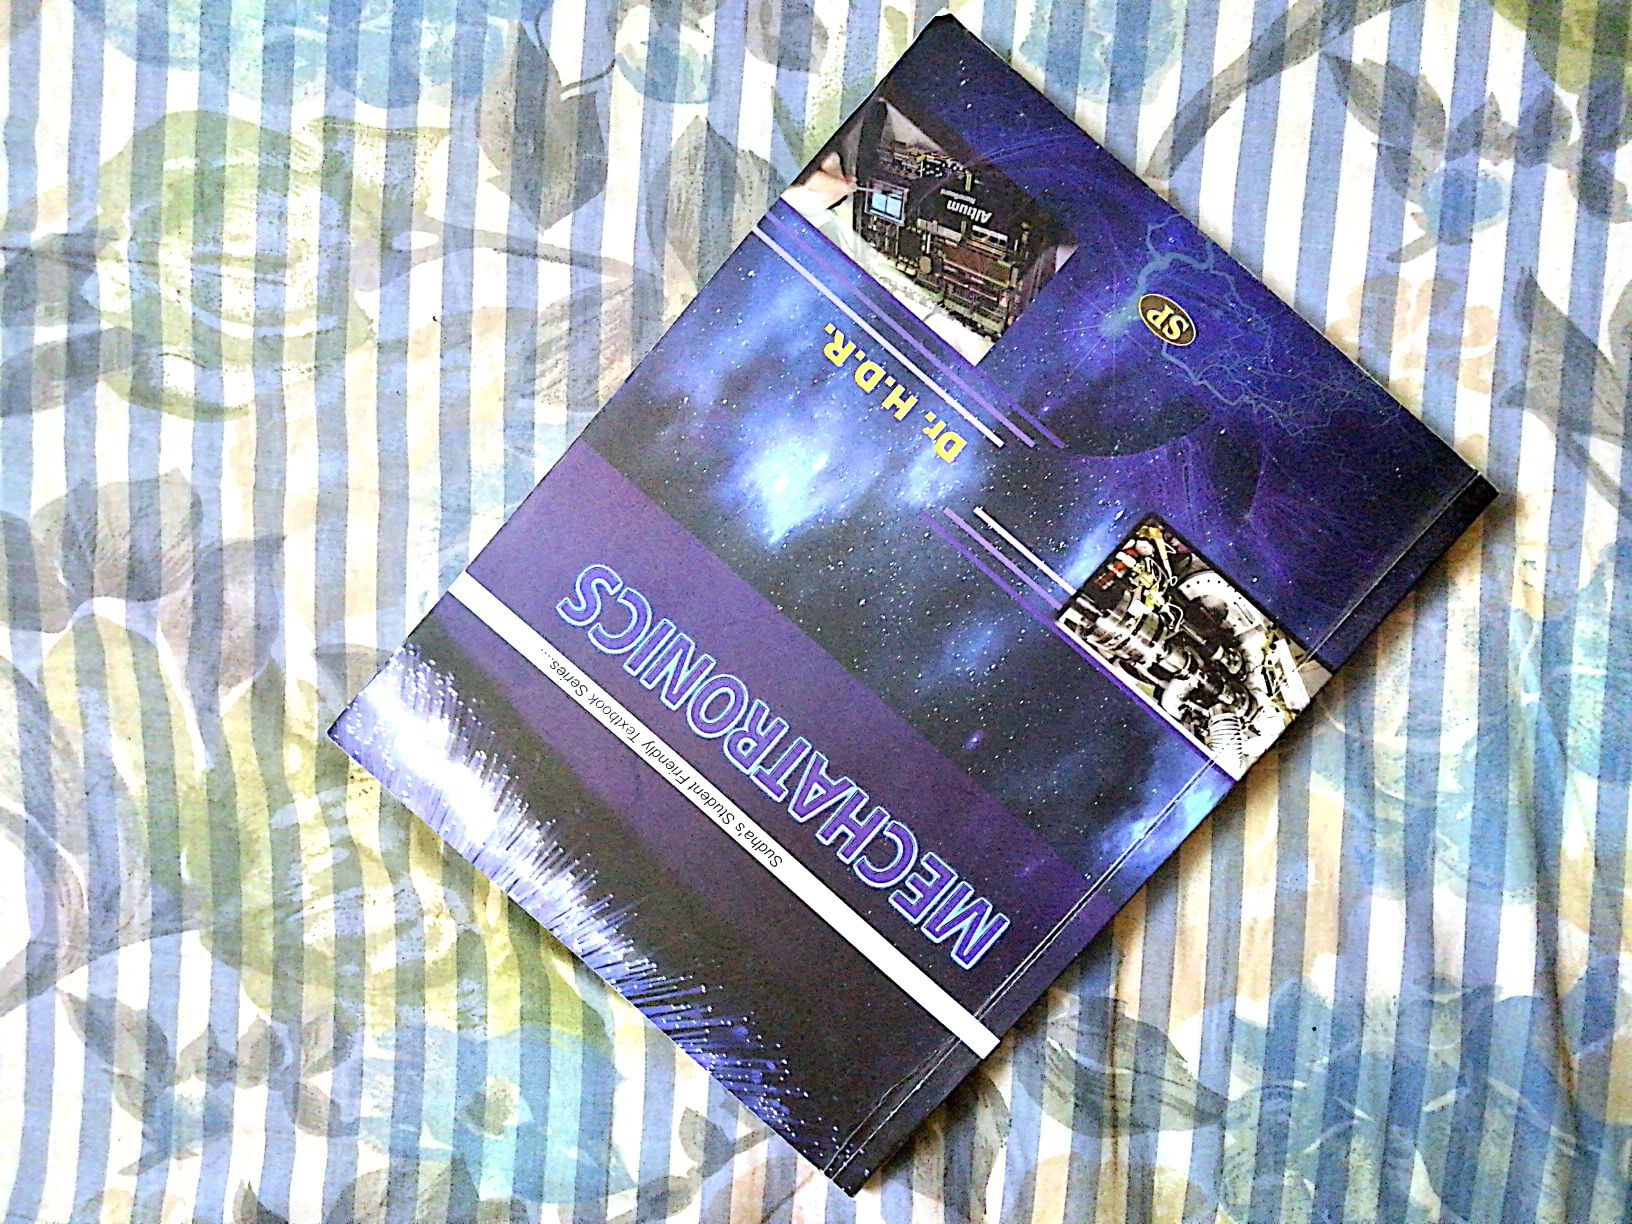mechatronics: (299, 24, 1416, 1182)
